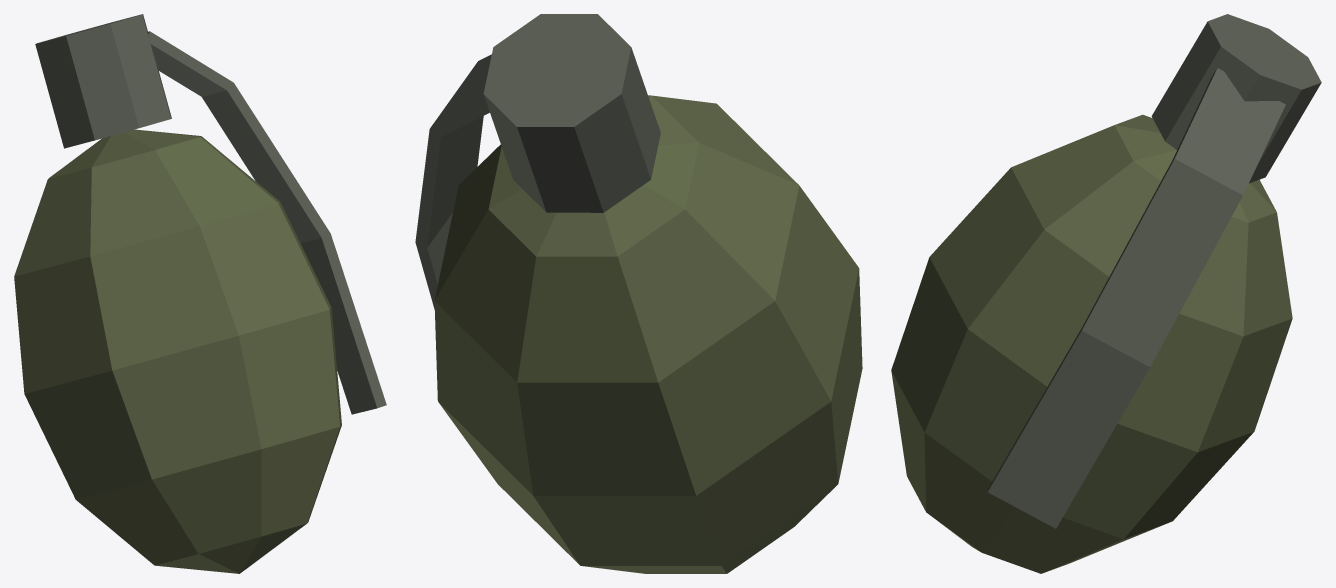
File: m26_grenade.glb
The picture shows the model from 3 angles, left to right: view 1: azimuth 30°, elevation 25°; view 2: azimuth 150°, elevation 25°; view 3: azimuth 270°, elevation 25°; orthographic projection. The views are drawn at different scales.
Parts seen in each view (by area): view 1: M26_Grenade, M26_spoon; view 2: M26_Grenade, M26_spoon; view 3: M26_Grenade, M26_spoon.
Boxes of the visible parts, x1,y1,x2,y2 form: M26_Grenade: (14, 14, 341, 573); M26_spoon: (147, 31, 386, 414); M26_Grenade: (434, 14, 862, 573); M26_spoon: (415, 54, 491, 308); M26_Grenade: (891, 14, 1321, 573); M26_spoon: (987, 68, 1285, 528).
Size of what is drawn, in the model's own units: 0.0596 by 0.0883 by 0.0652.
